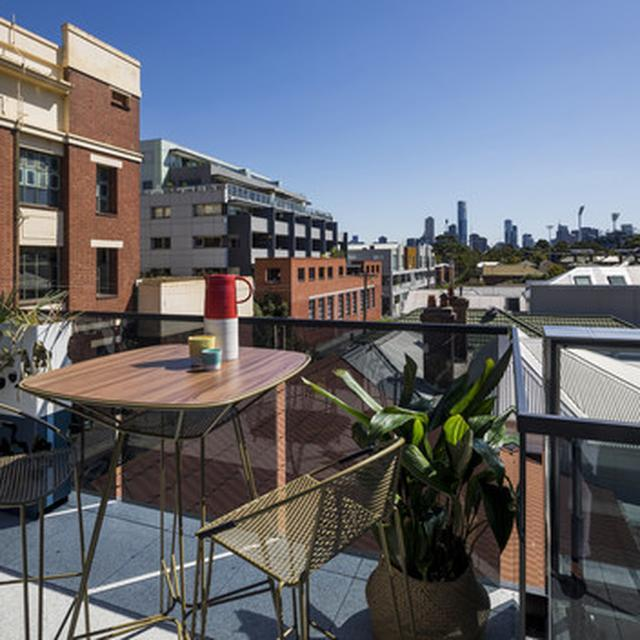building: (140, 125, 382, 334), (0, 11, 136, 327), (352, 229, 442, 311), (458, 199, 470, 257), (423, 216, 435, 247)
